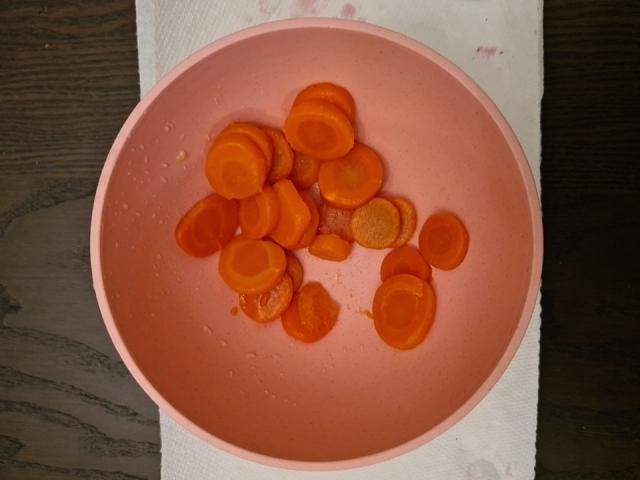kichen waste: (175, 85, 469, 351)
